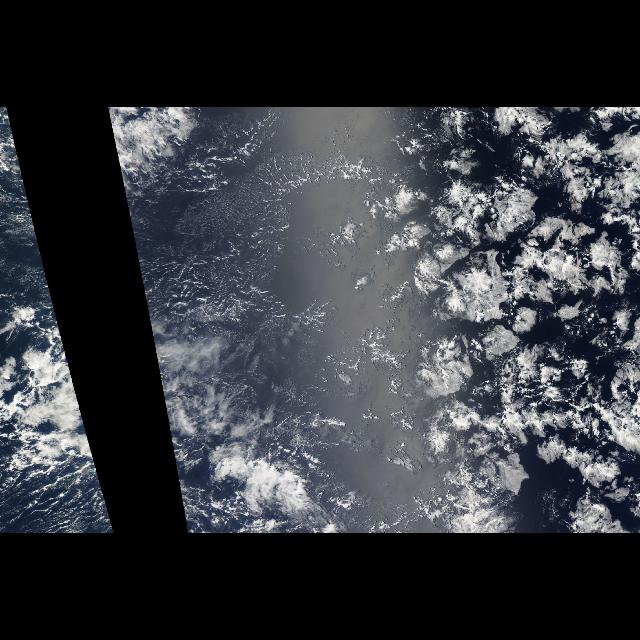Flower: (367, 131, 639, 497)
Sugar: (119, 126, 374, 342)
